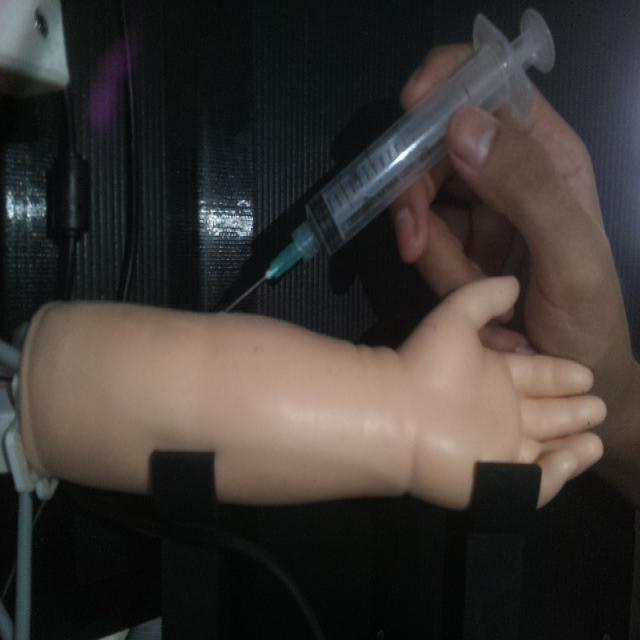Outside: (219, 2, 557, 316)
